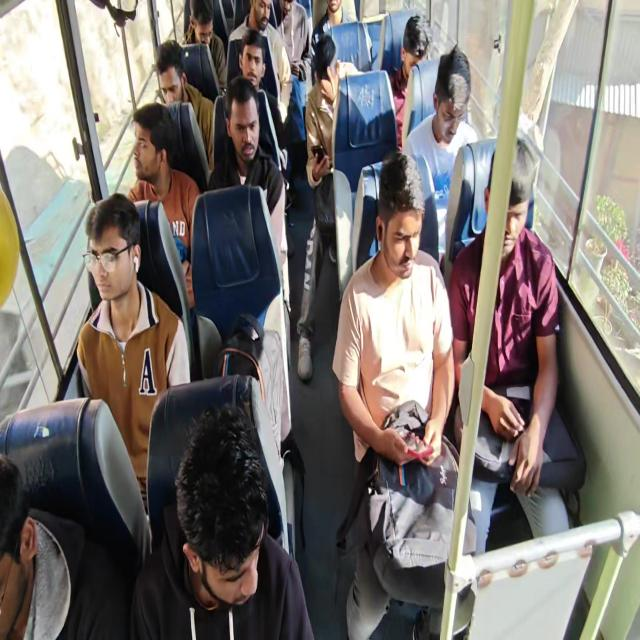person: (332, 150, 477, 638), (448, 135, 571, 556), (129, 403, 314, 639), (76, 192, 190, 515), (0, 452, 130, 639), (296, 32, 361, 382), (207, 76, 291, 310), (402, 45, 479, 262), (127, 102, 201, 312), (337, 14, 432, 151), (226, 26, 292, 209), (226, 0, 292, 125), (154, 39, 215, 171), (387, 14, 433, 151), (270, 0, 312, 144), (182, 0, 227, 91), (309, 0, 359, 79)
